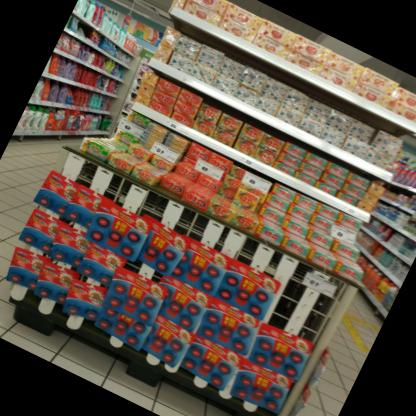empty_space: (266, 260, 349, 345)
